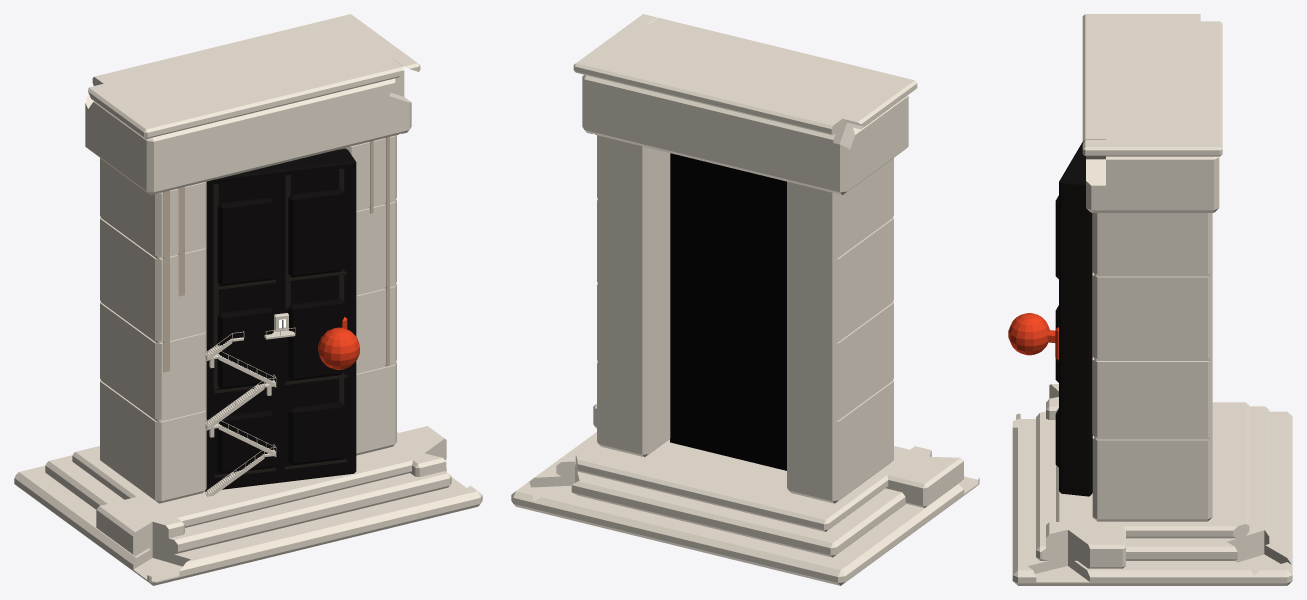
File: mega_door_monolith.glb
3 renders of one model, left to right at view 1: azimuth 30°, elevation 25°; view 2: azimuth 150°, elevation 25°; view 3: azimuth 270°, elevation 25°, orthographic.
Visible parts, largest first — view 1: mega_door_monolith; view 2: mega_door_monolith; view 3: mega_door_monolith.
Boxes of the visible parts, x1=… form: mega_door_monolith: x1=14, y1=14, x2=482, y2=585; mega_door_monolith: x1=511, y1=14, x2=979, y2=585; mega_door_monolith: x1=1008, y1=14, x2=1292, y2=585.
Size of the model in its own units: 58 by 70.6 by 42.65.
